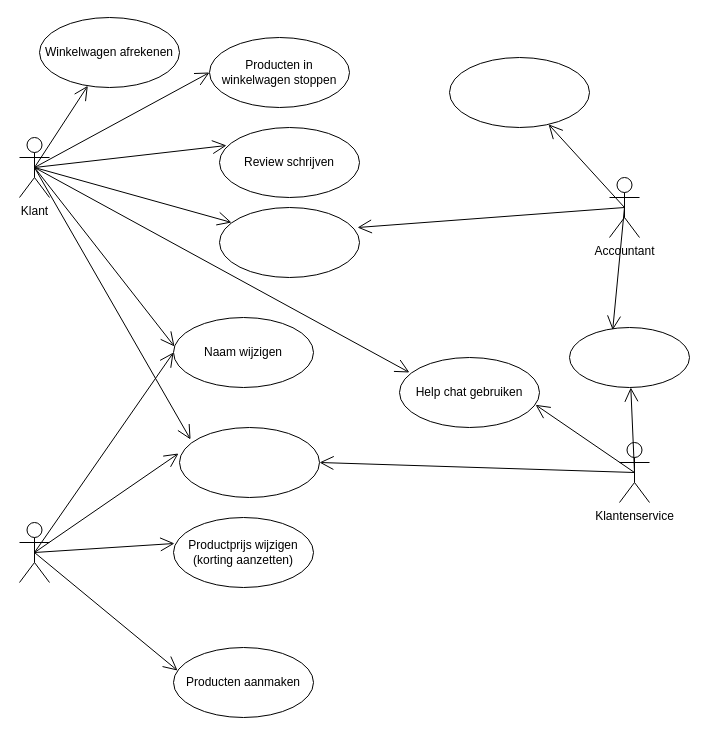
Image size: 707x735. Some labels were removed from this diagram. The shapes that lost their labels are listed below. From the top down, each one's centre as x and y in pixels, then its label:
point (519, 92): (openstaande) betalingen inzien
point (289, 242): Account aanmaken
point (629, 357): (persoons)gegevens inzien
point (249, 462): Review lezen
point (34, 552): Bedrijf
